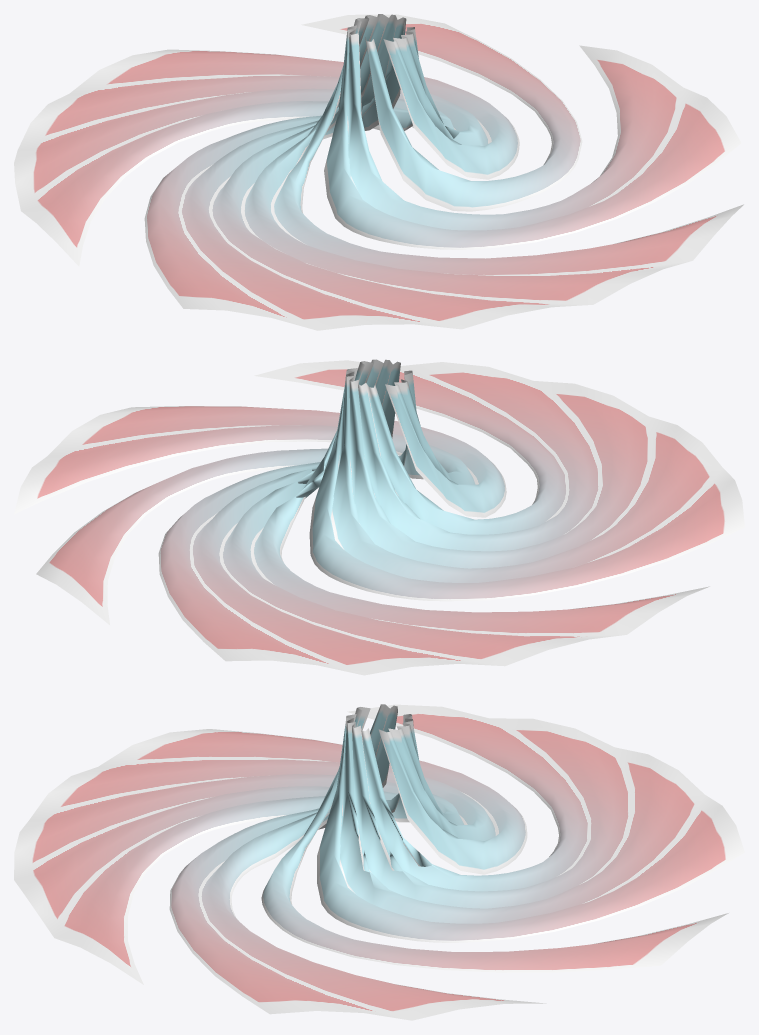
Rendered from bottom_swirl.glb.
3 renders of one model, top to bottom at view 1: azimuth 30°, elevation 25°; view 2: azimuth 150°, elevation 25°; view 3: azimuth 270°, elevation 25°, orthographic.
Visible parts, largest first — view 1: bottom_swirl; view 2: bottom_swirl; view 3: bottom_swirl.
Boxes of the visible parts, x1,y1,x2,y2 form: bottom_swirl: (14,14,743,330); bottom_swirl: (14,359,744,675); bottom_swirl: (14,704,744,1020).
Bounding box in the file's own units: 38.27 × 8.65 × 38.27.
Materials: 1 (1 with a texture image).
